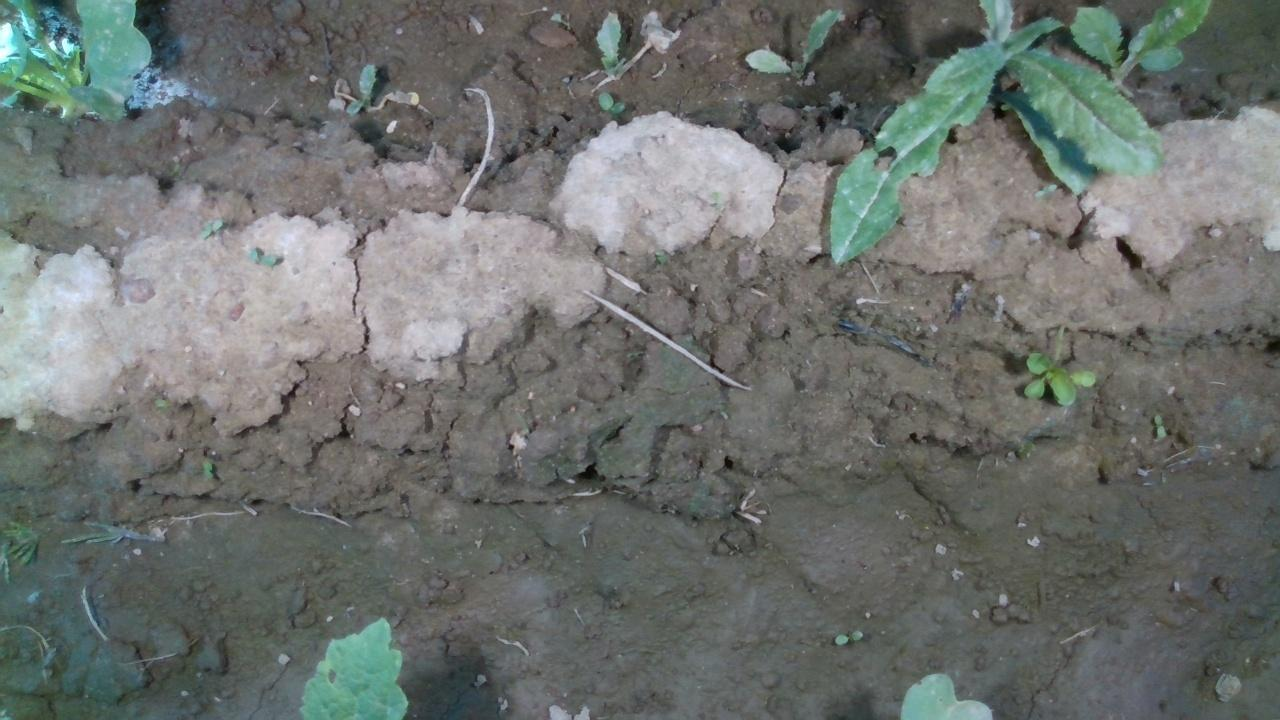weed: (597, 90, 625, 113)
